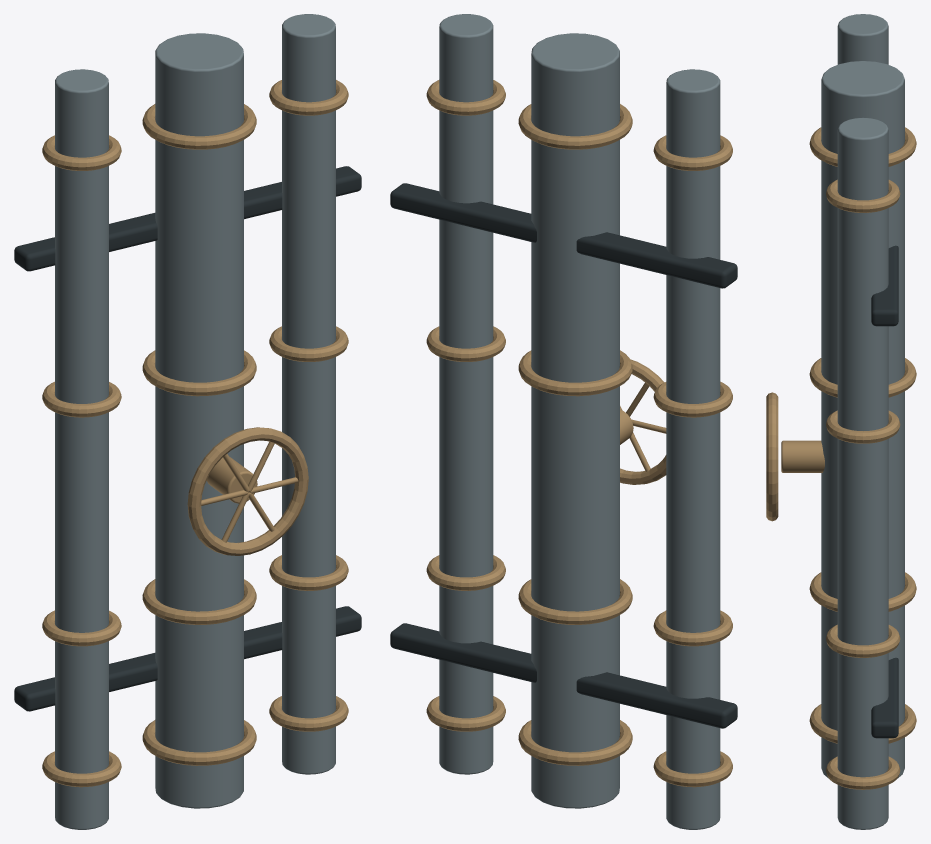
Rendered from pipe_bank.fbx.
3 renders of one model, left to right at view 1: azimuth 30°, elevation 25°; view 2: azimuth 150°, elevation 25°; view 3: azimuth 270°, elevation 25°, orthographic. The views are drawn at different scales.
Parts seen in each view (by area): view 1: pipe_bank; view 2: pipe_bank; view 3: pipe_bank.
Boxes of the visible parts, box(x1,y1,x2,y2) form: pipe_bank: box(14, 14, 361, 829); pipe_bank: box(390, 14, 737, 829); pipe_bank: box(766, 14, 916, 829).
Size of the model in its own units: 200 by 420 by 82.83.
